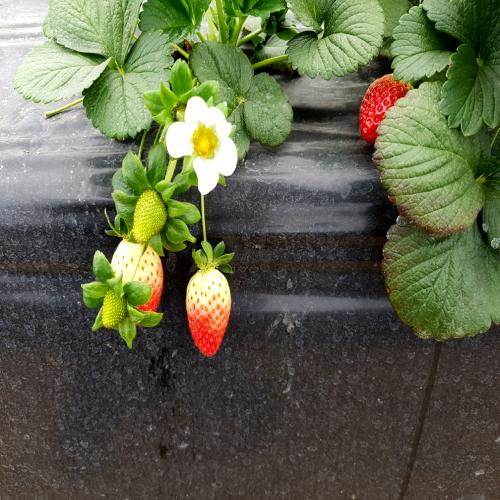partially-ripe: (115, 229, 165, 344), (180, 267, 237, 354)
ripe: (351, 56, 425, 163)
